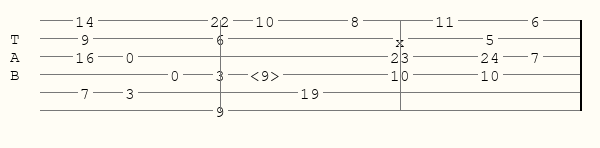0: (125, 49, 139, 63), (170, 67, 184, 81)
10: (255, 13, 279, 27), (390, 67, 414, 81), (480, 67, 504, 81)
11: (435, 13, 459, 27)
14: (75, 13, 99, 27)
16: (75, 49, 99, 63)
19: (300, 85, 324, 99)
22: (210, 13, 234, 27)
23: (390, 49, 414, 63)
24: (480, 49, 504, 63)
3: (125, 85, 139, 99), (215, 67, 229, 81)
5: (485, 31, 499, 45)
6: (215, 31, 229, 45), (530, 13, 544, 27)
7: (80, 85, 94, 99), (530, 49, 544, 63)
8: (350, 13, 364, 27)
9: (80, 31, 94, 45), (215, 103, 229, 117)
harmonic: (250, 67, 284, 82)
x: (395, 33, 409, 44)
